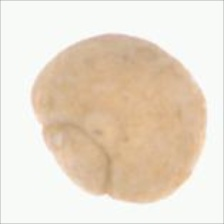L5: (43, 123, 116, 199)
L6: (30, 32, 209, 206)
